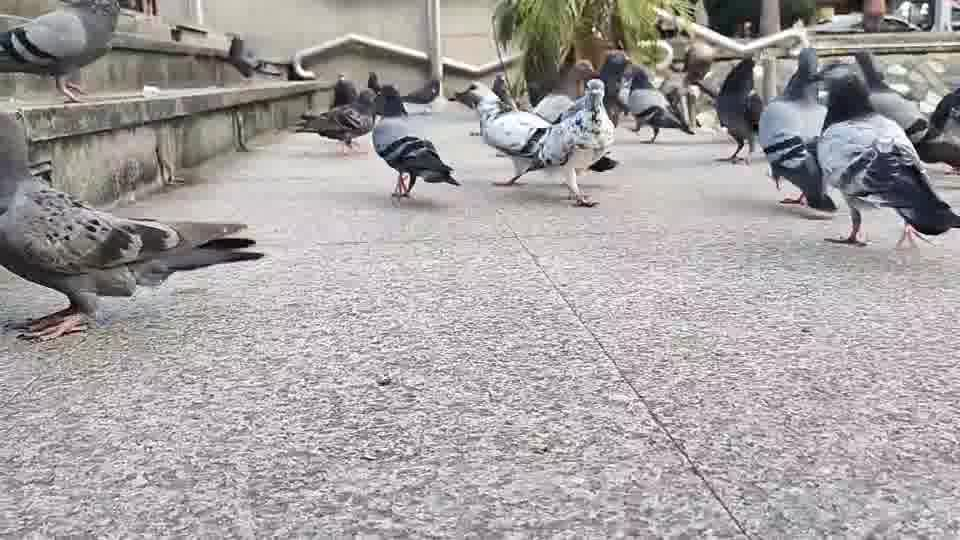Pigeon: (0, 108, 264, 342), (804, 66, 958, 248), (757, 47, 838, 211), (0, 0, 121, 103), (370, 83, 462, 201), (693, 55, 763, 165), (623, 63, 696, 143), (294, 87, 379, 155)
